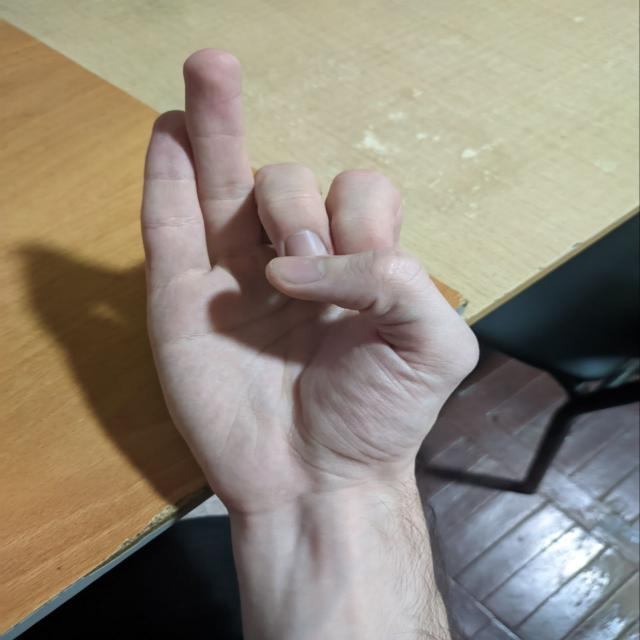i: (126, 38, 482, 475)
